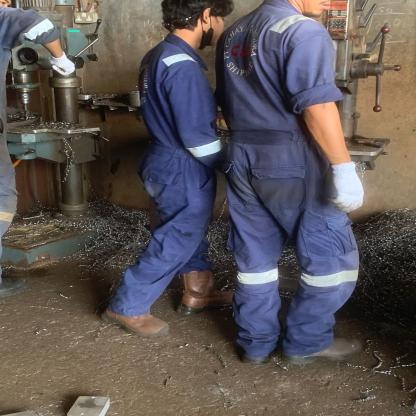bota: (176, 269, 238, 317), (288, 336, 367, 367), (98, 312, 174, 340), (238, 350, 274, 370)
